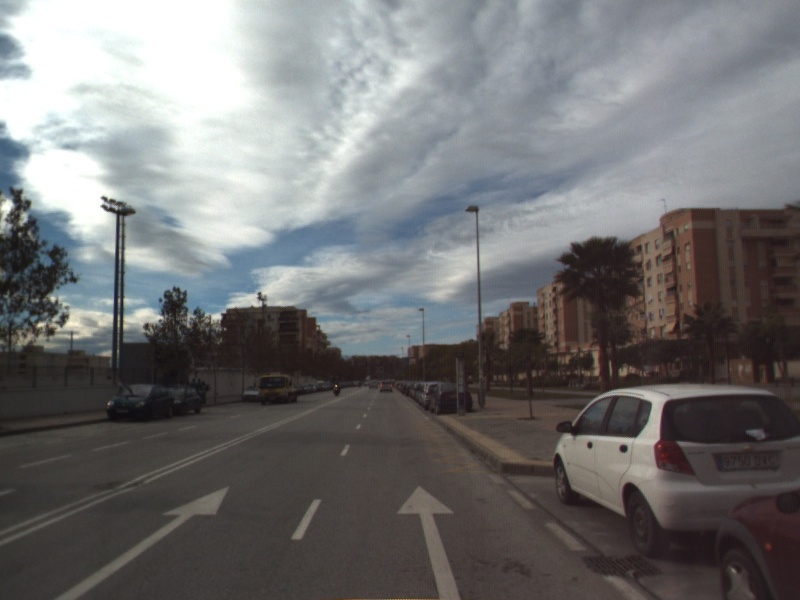STRAIGHT: (52, 484, 232, 600), (394, 483, 464, 600)
